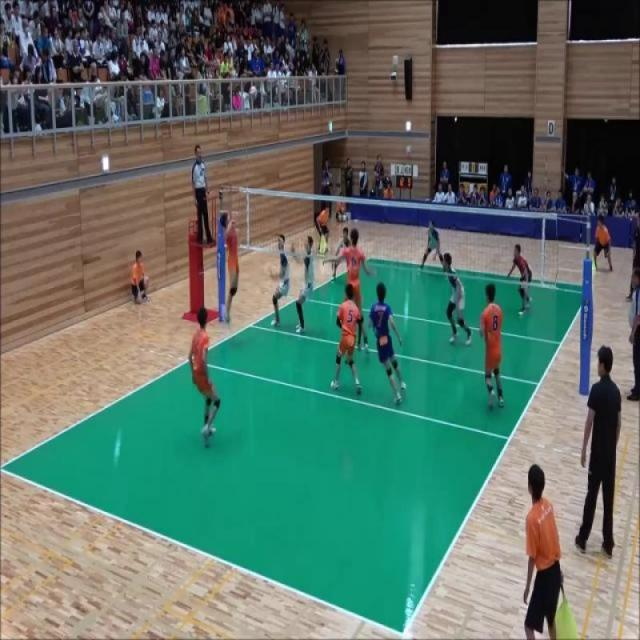volleyball: (248, 85, 258, 101)
